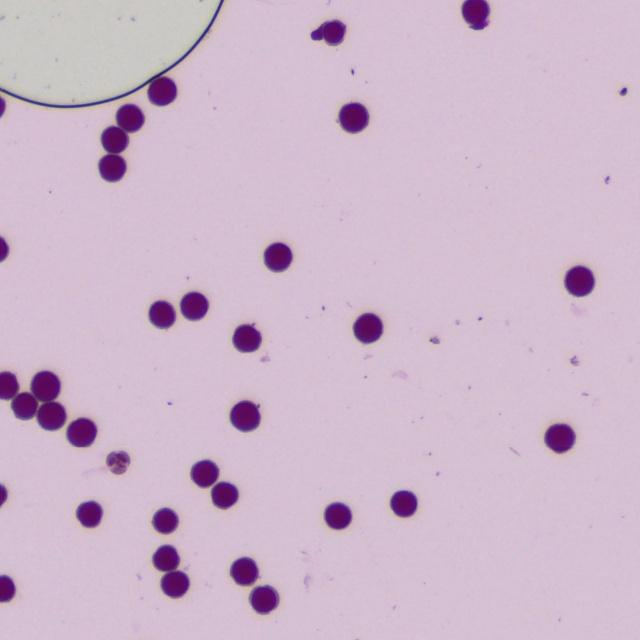viable: (230, 400, 260, 431), (31, 370, 60, 401), (565, 265, 594, 296), (339, 102, 368, 133), (67, 418, 97, 447), (37, 401, 66, 430), (264, 242, 292, 272), (354, 313, 382, 343), (545, 424, 574, 452), (148, 76, 176, 105), (116, 104, 144, 132), (190, 459, 218, 487), (180, 291, 208, 319), (233, 324, 261, 352), (250, 585, 278, 613), (462, 0, 489, 29), (230, 558, 258, 585), (101, 126, 128, 153), (99, 154, 126, 181), (390, 490, 417, 517), (324, 502, 351, 529), (211, 481, 238, 508), (149, 300, 175, 328), (161, 571, 188, 597), (11, 392, 37, 419), (152, 508, 178, 534), (76, 501, 102, 527), (152, 545, 179, 570), (322, 20, 345, 45), (106, 451, 130, 474), (0, 372, 18, 399), (0, 575, 15, 602), (0, 236, 9, 261), (0, 483, 7, 506), (0, 96, 5, 116)
